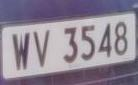3: (59, 24, 82, 68)
4: (97, 19, 114, 64)
5: (79, 22, 98, 67)
8: (112, 18, 129, 63)
V: (31, 27, 54, 72)
W: (9, 28, 33, 75)
